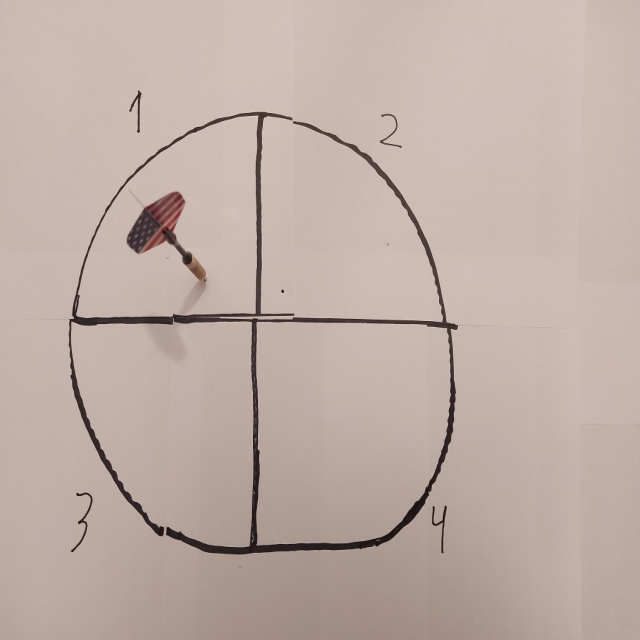Dart: (120, 182, 215, 292)
